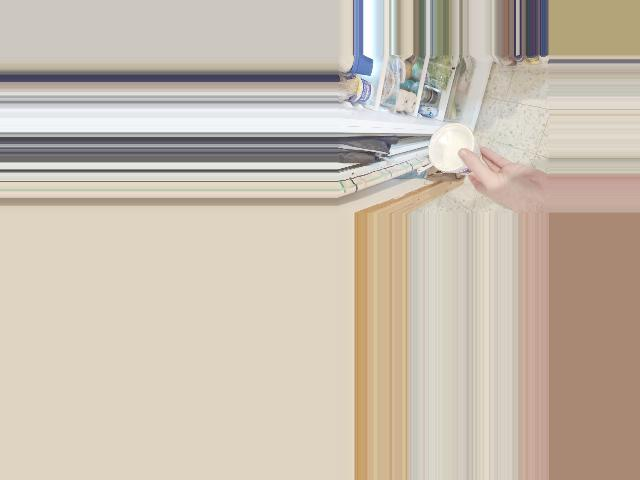cotage: (423, 127, 475, 179)
